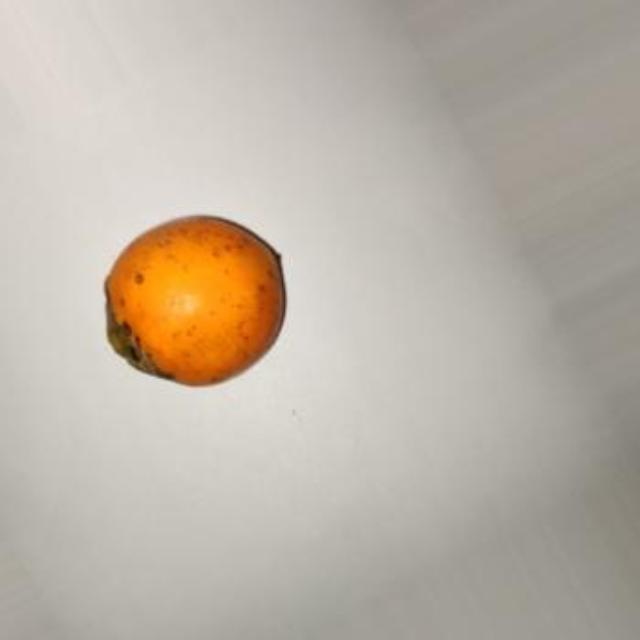good: (102, 216, 287, 389)
